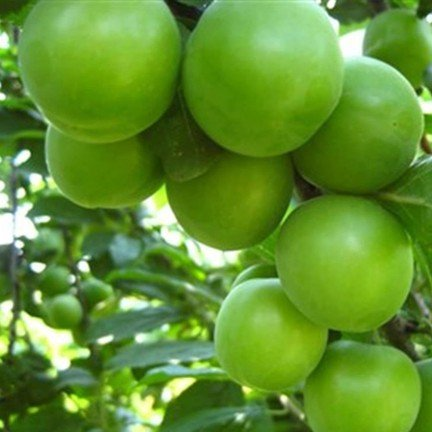Plum: (180, 1, 347, 163), (15, 1, 184, 145), (272, 191, 428, 340)
